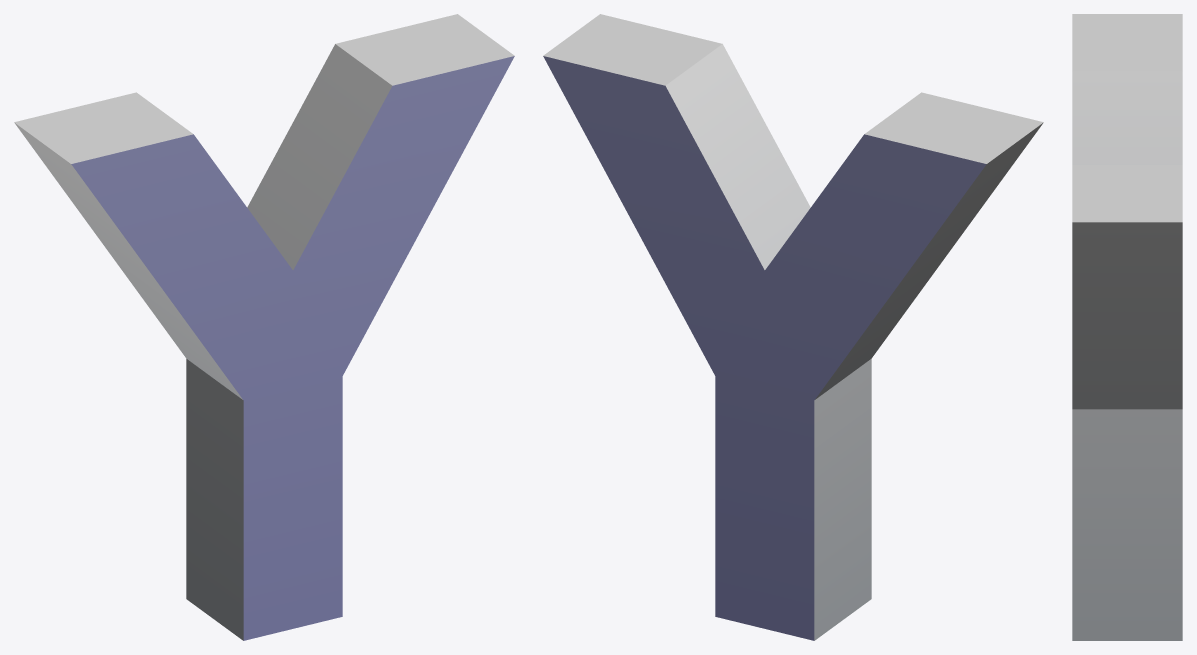
Rendered from letter-y.glb.
The picture shows the model from 3 angles, left to right: view 1: azimuth 30°, elevation 25°; view 2: azimuth 150°, elevation 25°; view 3: azimuth 270°, elevation 25°; orthographic projection. The views are drawn at different scales.
Visible parts, largest first — view 1: letter-y; view 2: letter-y; view 3: letter-y.
Part boxes in pixels (<box>): letter-y: <box>14,14,514,640</box>; letter-y: <box>543,14,1043,640</box>; letter-y: <box>1072,14,1182,640</box>.
Size of the model in its own units: 0.4475 by 0.5 by 0.1.
